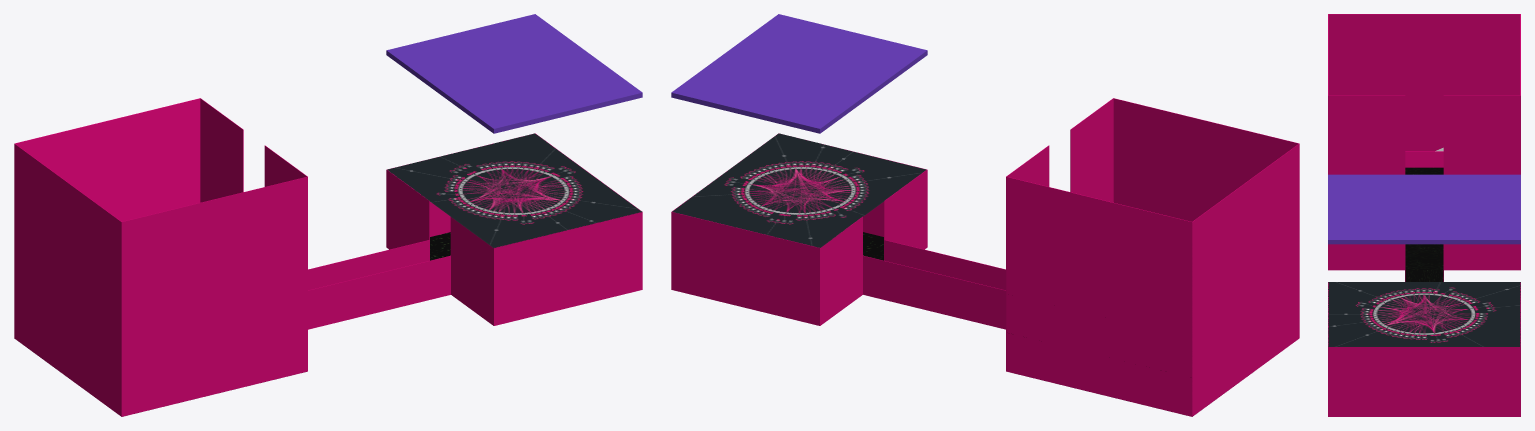
File: wallsold.glb
3 renders of one model, left to right at view 1: azimuth 30°, elevation 25°; view 2: azimuth 150°, elevation 25°; view 3: azimuth 270°, elevation 25°, orthographic. The views are drawn at different scales.
Parts seen in each view (by area): view 1: Cube.018, Cube.015, Cube.006, Plane.001, Cube.014, Cube.005, Cube.008, Cube.012, Cube.009, Cube.007, Cube.010, Cube.016 (+1 smaller); view 2: Cube.014, Cube.015, Cube.006, Plane.001, Cube.018, Cube.003, Cube.010, Cube.016, Cube.007, Cube.009, Cube.008, Cube.012 (+1 smaller); view 3: Cube.015, Cube.006, Cube.004, Plane.001, Cube.012, Cube.016, FloorBaseGrass_01.001, Cube.020, Plane, FloorBaseGrass_01.012.
Part boxes in pixels (x1,y1,x2,y2): Cube.018: (121, 176, 307, 416); Cube.015: (14, 143, 121, 416); Cube.006: (386, 14, 642, 133); Plane.001: (387, 133, 642, 247); Cube.014: (15, 98, 200, 221); Cube.005: (493, 212, 642, 325); Cube.008: (308, 255, 450, 329); Cube.012: (200, 98, 243, 202); Cube.009: (450, 217, 493, 325); Cube.007: (386, 170, 429, 260); Cube.010: (308, 240, 429, 290); Cube.016: (264, 145, 307, 371); Cube.014: (1006, 176, 1192, 416); Cube.015: (1192, 143, 1299, 416); Cube.006: (671, 14, 927, 133); Plane.001: (672, 133, 926, 247); Cube.018: (1113, 98, 1298, 221); Cube.003: (671, 212, 820, 325); Cube.010: (863, 255, 1005, 329); Cube.016: (1070, 98, 1113, 202); Cube.007: (819, 216, 862, 325); Cube.009: (884, 170, 927, 260); Cube.008: (884, 240, 1005, 290); Cube.012: (1006, 145, 1049, 371); Cube.015: (1328, 14, 1520, 151); Cube.006: (1328, 174, 1520, 244); Cube.004: (1328, 347, 1520, 416); Plane.001: (1328, 282, 1520, 346); Cube.012: (1443, 95, 1520, 270); Cube.016: (1328, 95, 1405, 270); FloorBaseGrass_01.001: (1405, 244, 1443, 270); Cube.020: (1405, 151, 1443, 167); Plane: (1405, 270, 1443, 281); FloorBaseGrass_01.012: (1405, 167, 1443, 174).
Size of what is drawn, in the model's own units: 224 by 81.07 by 80.
Materials: 18 (10 with a texture image).
